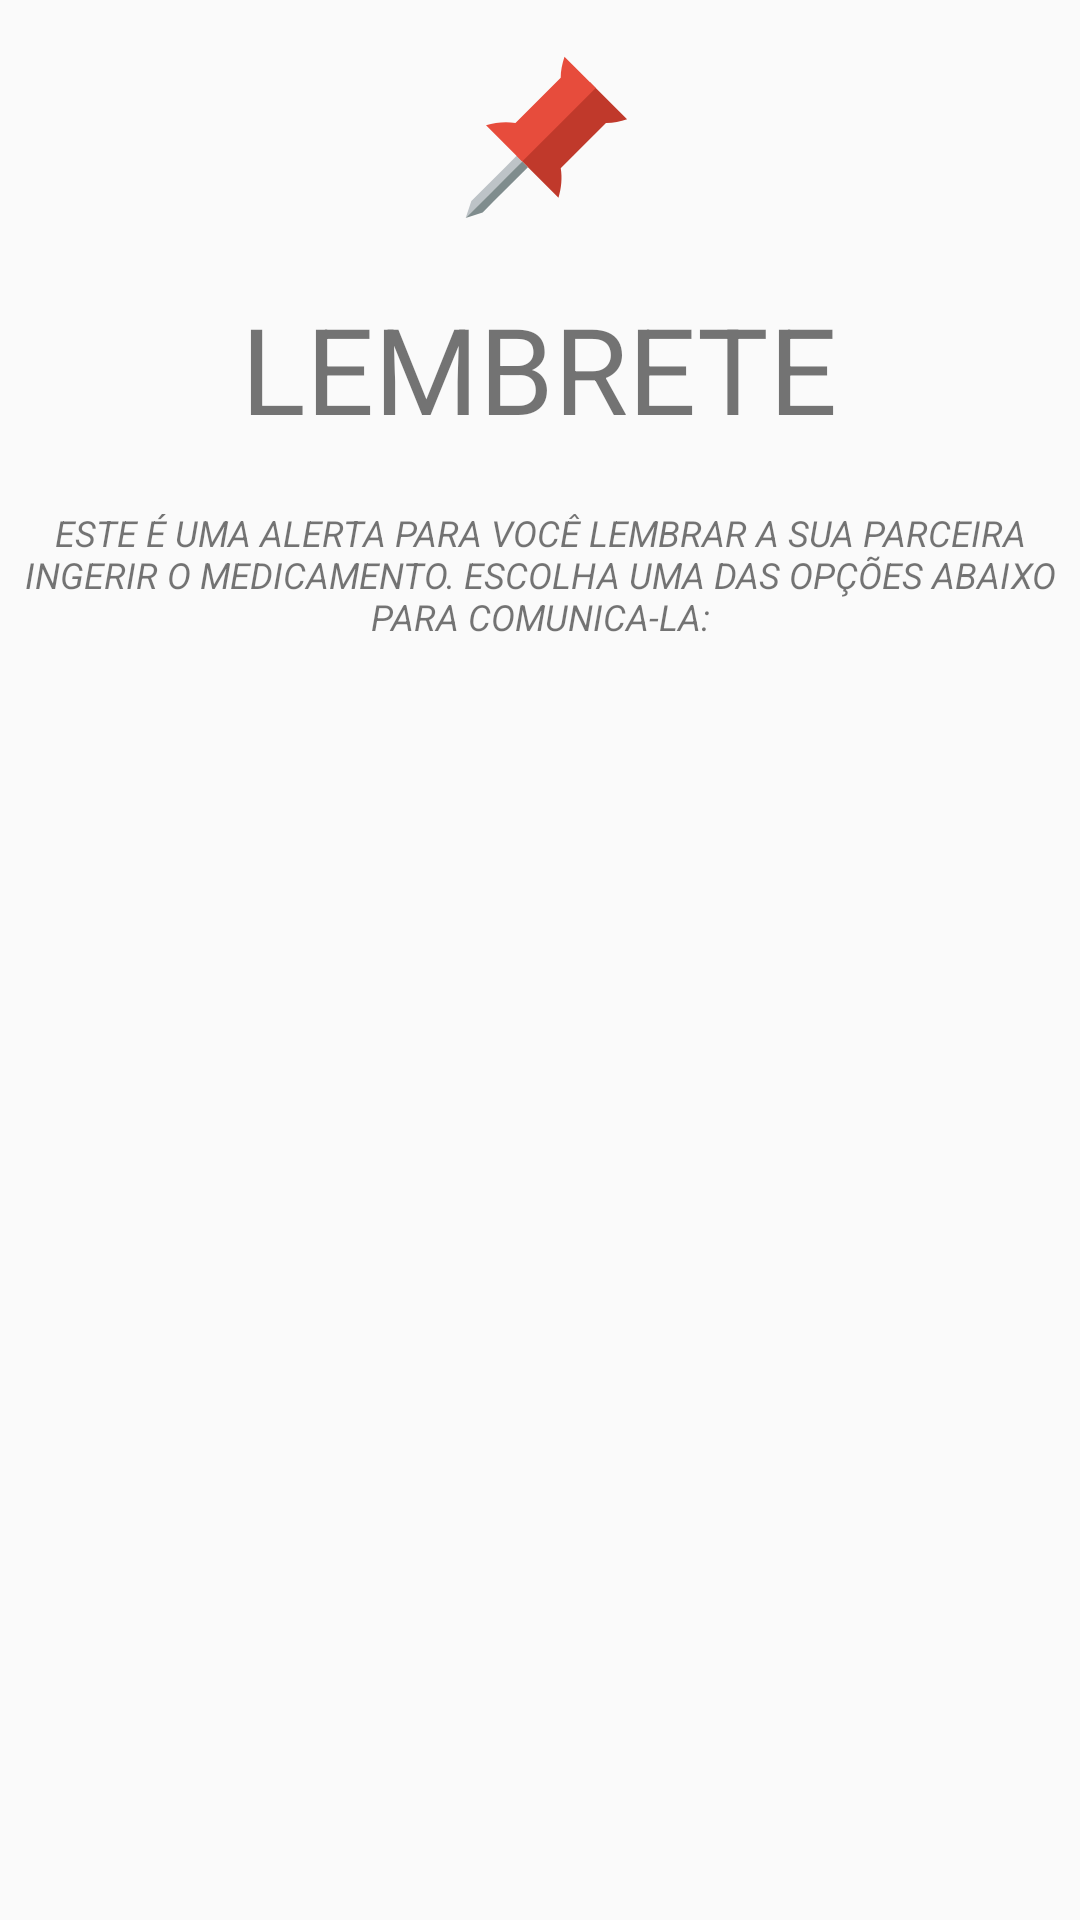

Screen size 1080w x 1920h. Icon name, then its box in pixels as (x1, y1, x2, y2):
pin: (466, 57, 627, 218)
